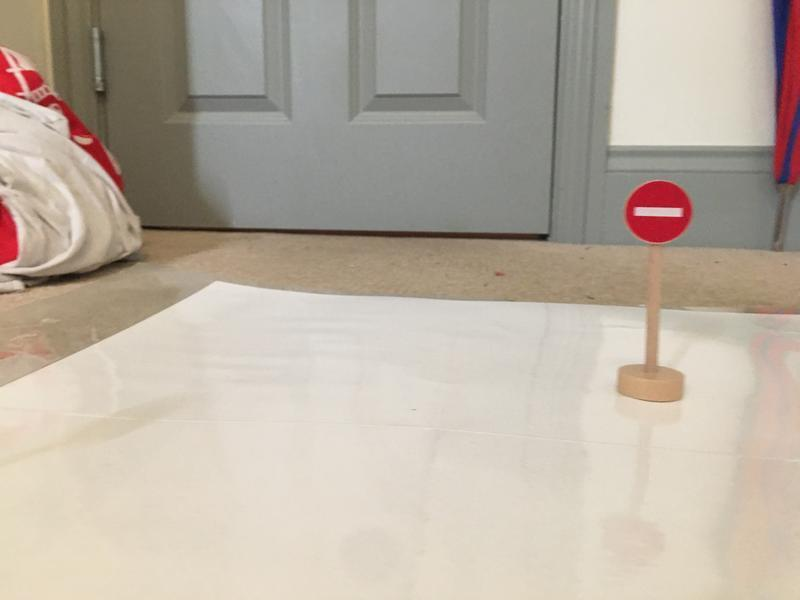Traffic_Sign_No_Entry: (625, 180, 693, 244)
